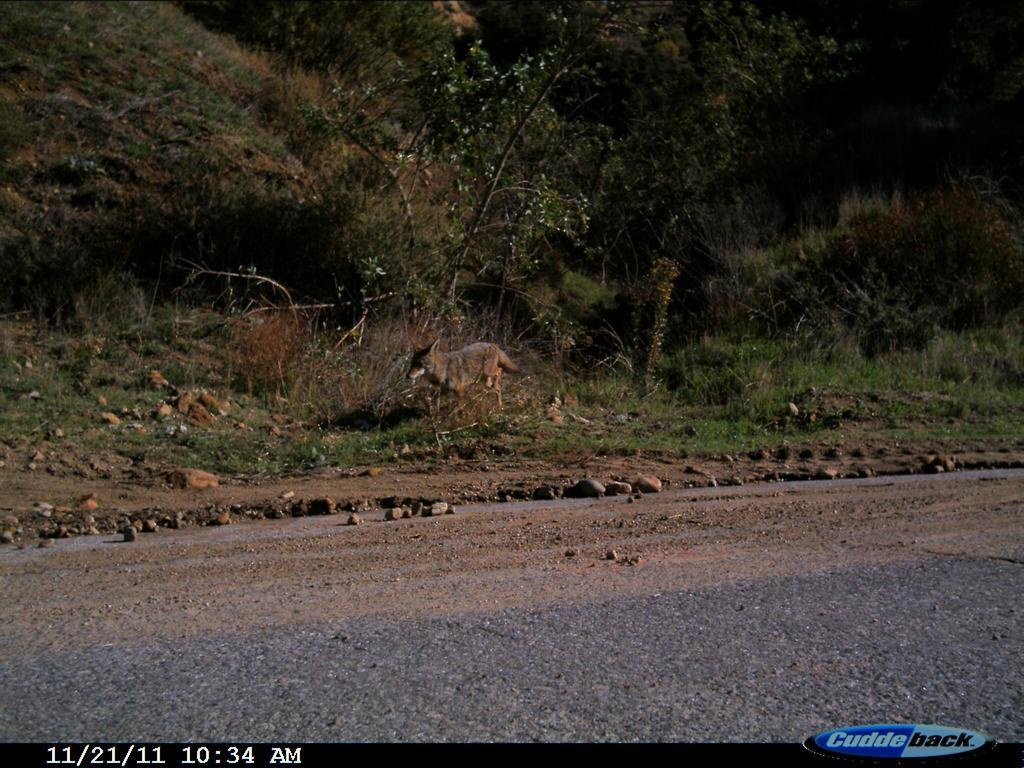coyote: (396, 329, 531, 423)
